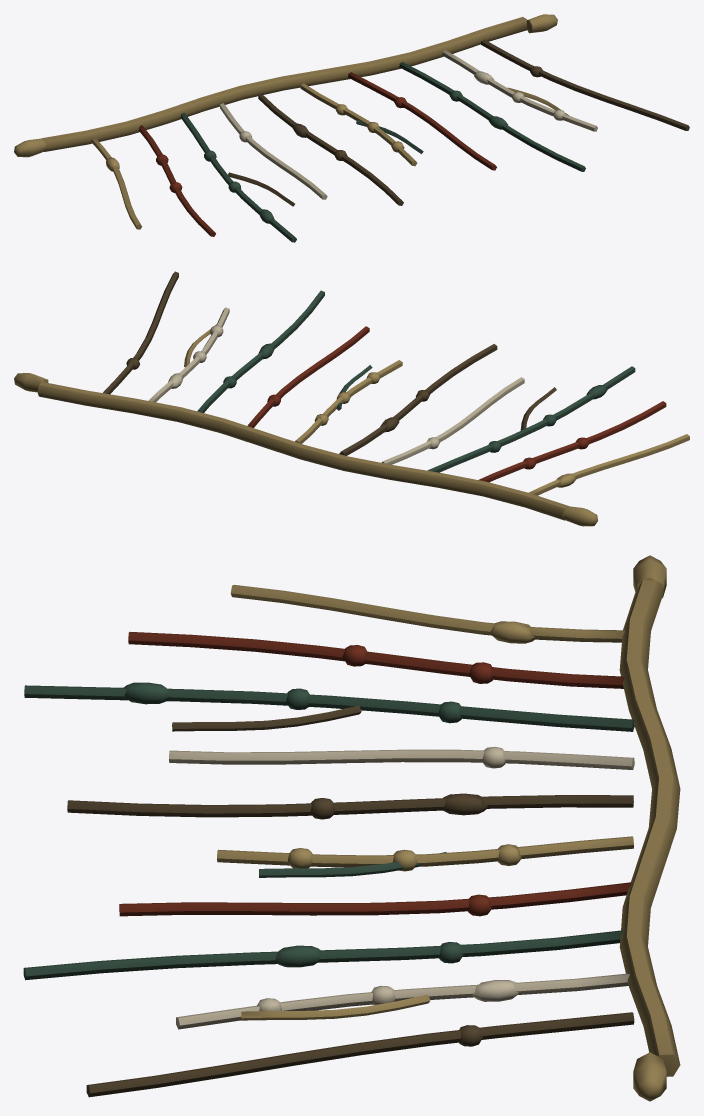
File: quipu.glb
3 renders of one model, top to bottom at view 1: azimuth 30°, elevation 25°; view 2: azimuth 150°, elevation 25°; view 3: azimuth 270°, elevation 25°, orthographic. The views are drawn at different scales.
Visible parts, largest first — view 1: base; view 2: base; view 3: base.
Part boxes in pixels (x1,y1,x2,y2): base: [14, 14, 689, 242]; base: [14, 271, 689, 526]; base: [23, 555, 680, 1101].
Bounding box in the file's own units: 0.302 × 0.0092 × 0.1579.
